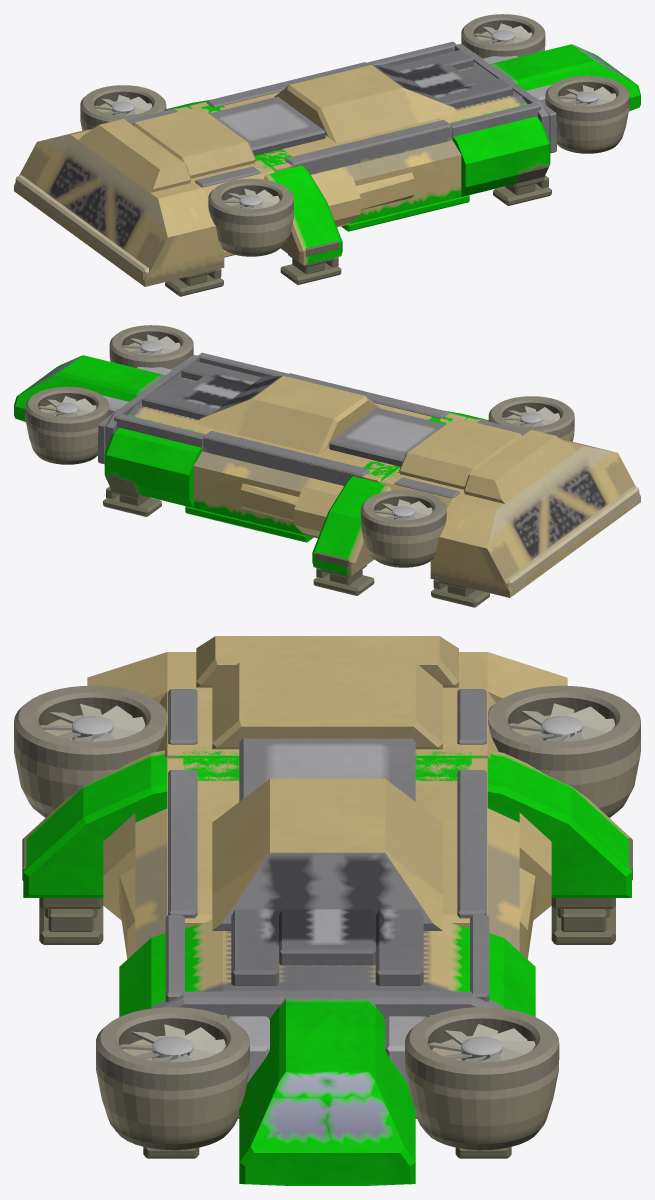
The model's file is orca-transport.glb.
3 renders of one model, top to bottom at view 1: azimuth 30°, elevation 25°; view 2: azimuth 150°, elevation 25°; view 3: azimuth 270°, elevation 25°, orthographic. The views are drawn at different scales.
Parts seen in each view (by area): view 1: rear_block, hump, front, hull, roof_panel_2, wing, roof_panel, nose, hatch, hull_deck, bumper, rail (+15 smaller); view 2: rear_block, hump, front, hull, roof_panel_2, wing, roof_panel, nose, hatch, hull_deck, bumper, rail_4 (+15 smaller); view 3: hump, nose, wing, roof_panel_2, front, roof_panel, hull_deck, hull, hatch, rear_block, face_plate, cockpit (+29 smaller).
Part boxes in pixels (x1,y1,x2,y2): rear_block: (14, 128, 224, 286); hump: (274, 64, 457, 143); front: (439, 61, 550, 196); hull: (311, 140, 461, 227); roof_panel_2: (132, 106, 255, 178); wing: (166, 100, 342, 265); roof_panel: (78, 119, 191, 192); nose: (484, 44, 640, 111); hatch: (209, 96, 325, 155); hull_deck: (188, 92, 452, 174); bumper: (15, 175, 148, 281); rail: (285, 120, 451, 165); rear_block: (430, 439, 640, 597); hump: (197, 375, 380, 454); front: (104, 372, 215, 507); hull: (193, 451, 343, 538); roof_panel_2: (399, 417, 522, 489); wing: (312, 411, 488, 576); roof_panel: (463, 430, 576, 503); nose: (14, 355, 170, 422); hatch: (329, 407, 445, 466); hull_deck: (202, 403, 466, 485); bumper: (506, 486, 639, 591); rail_4: (203, 431, 369, 476); hump: (212, 778, 442, 930); nose: (239, 992, 415, 1185); wing: (23, 747, 631, 897); roof_panel_2: (212, 662, 442, 749); front: (119, 919, 535, 1016); roof_panel: (196, 636, 458, 687); hull_deck: (167, 758, 487, 928); hull: (135, 808, 519, 951); hatch: (239, 738, 415, 801); rear_block: (87, 652, 567, 702); face_plate: (151, 991, 503, 1019); cockpit: (279, 909, 375, 965).
Bounding box in the file's own units: 2.26 × 0.4479 × 1.24.
